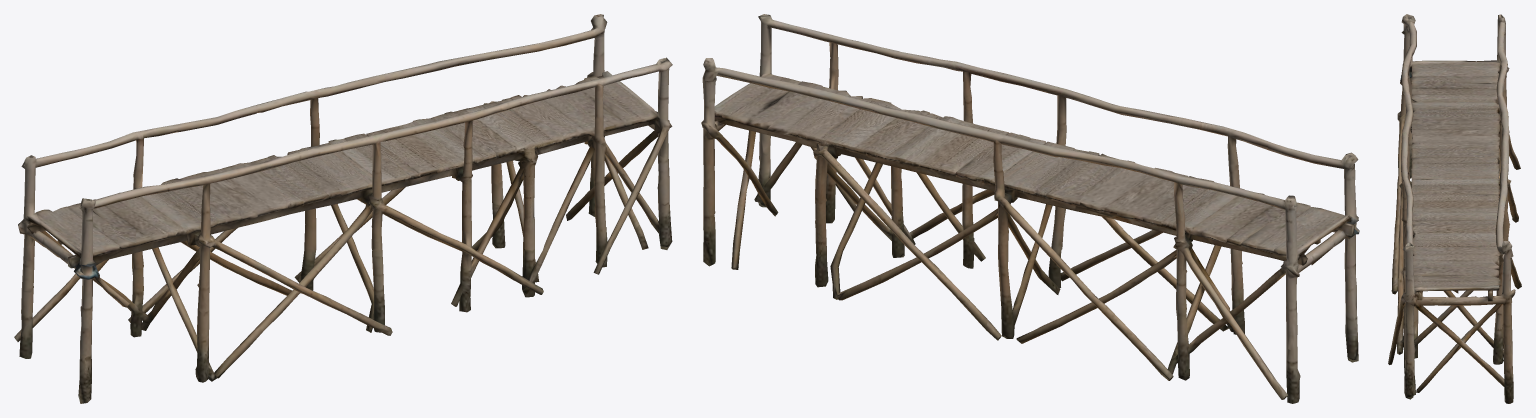
Rendered from jembatan_bambu_panjang.glb.
3 views of the same model, side by side, from view 1: azimuth 30°, elevation 25°; view 2: azimuth 150°, elevation 25°; view 3: azimuth 270°, elevation 25° (orthographic). The views are drawn at different scales.
Parts seen in each view (by area): view 1: tripo_node_6cc7eeb1-c368-4c48-8c2e-7ad877a7bdf7; view 2: tripo_node_6cc7eeb1-c368-4c48-8c2e-7ad877a7bdf7; view 3: tripo_node_6cc7eeb1-c368-4c48-8c2e-7ad877a7bdf7.
Boxes of the visible parts, bbox=[...] form: tripo_node_6cc7eeb1-c368-4c48-8c2e-7ad877a7bdf7: bbox=[14, 14, 672, 403]; tripo_node_6cc7eeb1-c368-4c48-8c2e-7ad877a7bdf7: bbox=[701, 14, 1359, 403]; tripo_node_6cc7eeb1-c368-4c48-8c2e-7ad877a7bdf7: bbox=[1388, 14, 1521, 403].
Size of the model in its own units: 1 by 0.3338 by 0.2406.
Materials: 1 (1 with a texture image).
